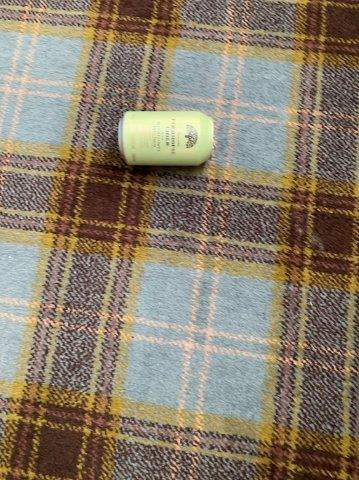kaleng: (118, 110, 216, 167)
